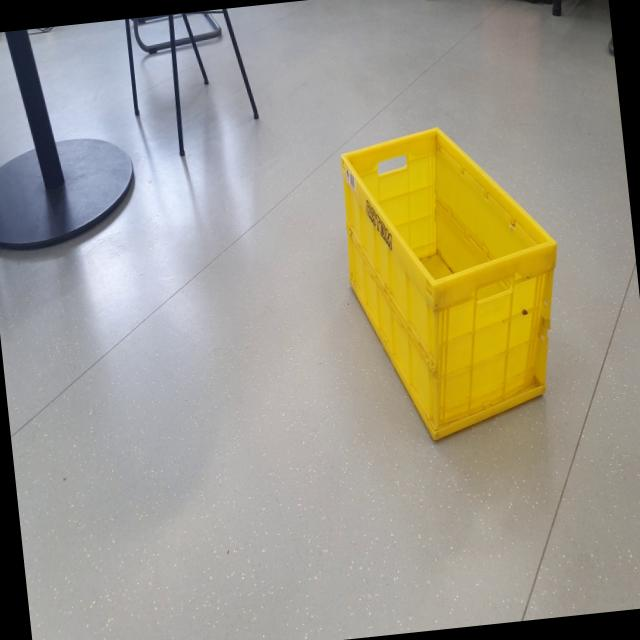box: (326, 92, 592, 460)
